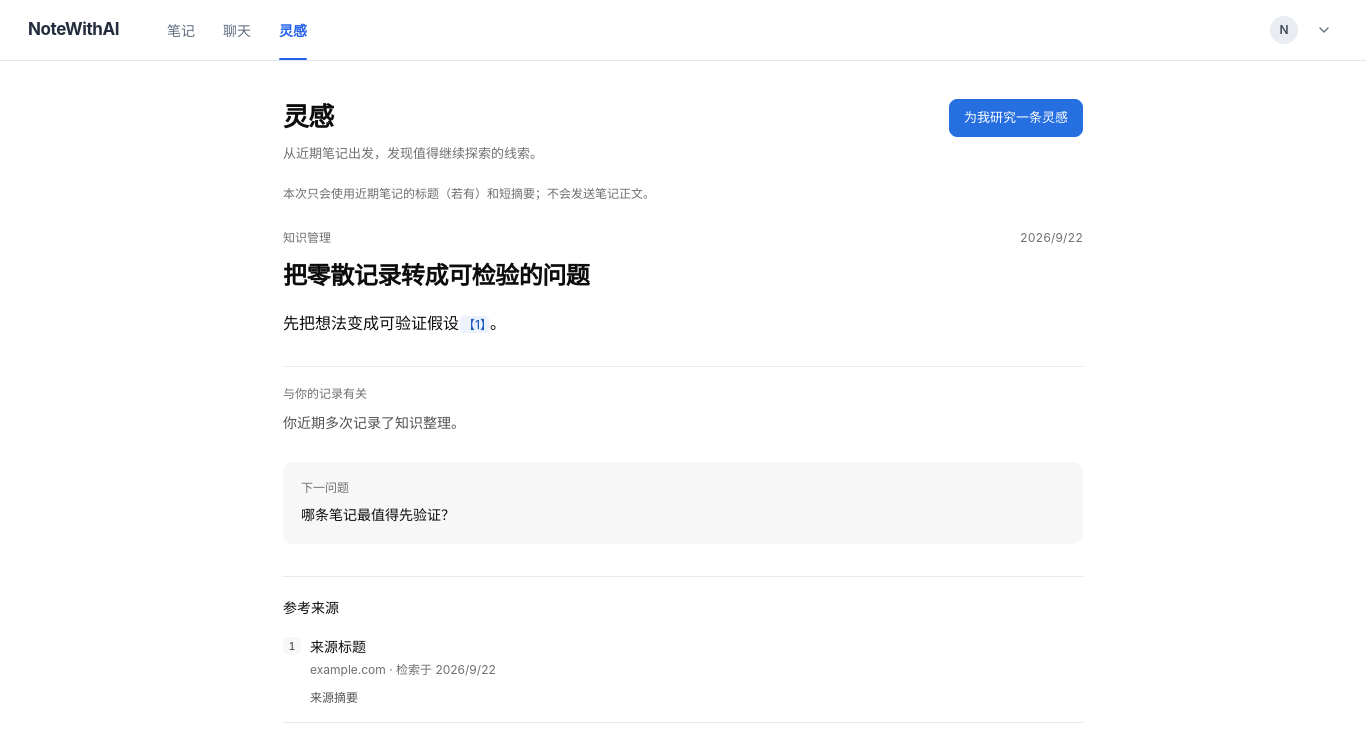
it: InspirationPage › explains pending context while retaining an existing inspiration
Step 1. Click the button "为我研究一条灵感" → [1016, 118], box [949, 99, 1083, 136]
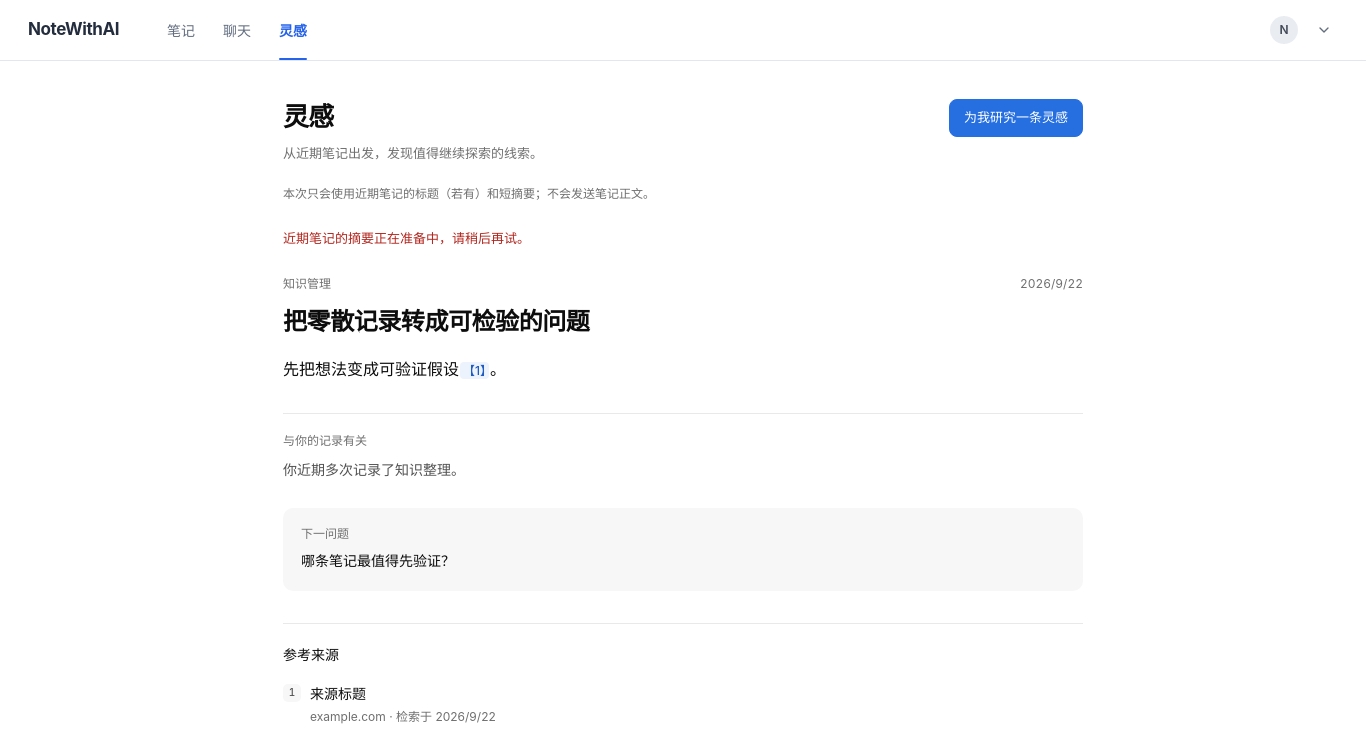
Expected: the heading "把零散记录转成可检验的问题" is shown, [283, 307, 589, 336]
Now the text "近期笔记的摘要正在准备中，请稍后再试。" is shown, box [283, 230, 530, 246]
